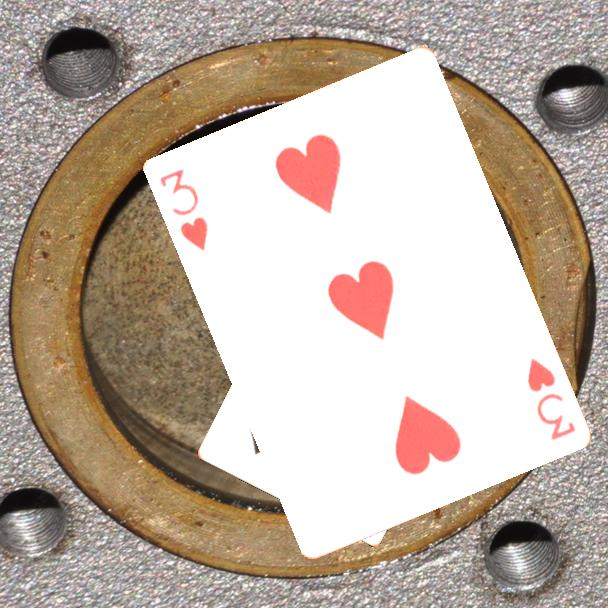h03: (155, 165, 211, 254), (523, 354, 578, 443)
